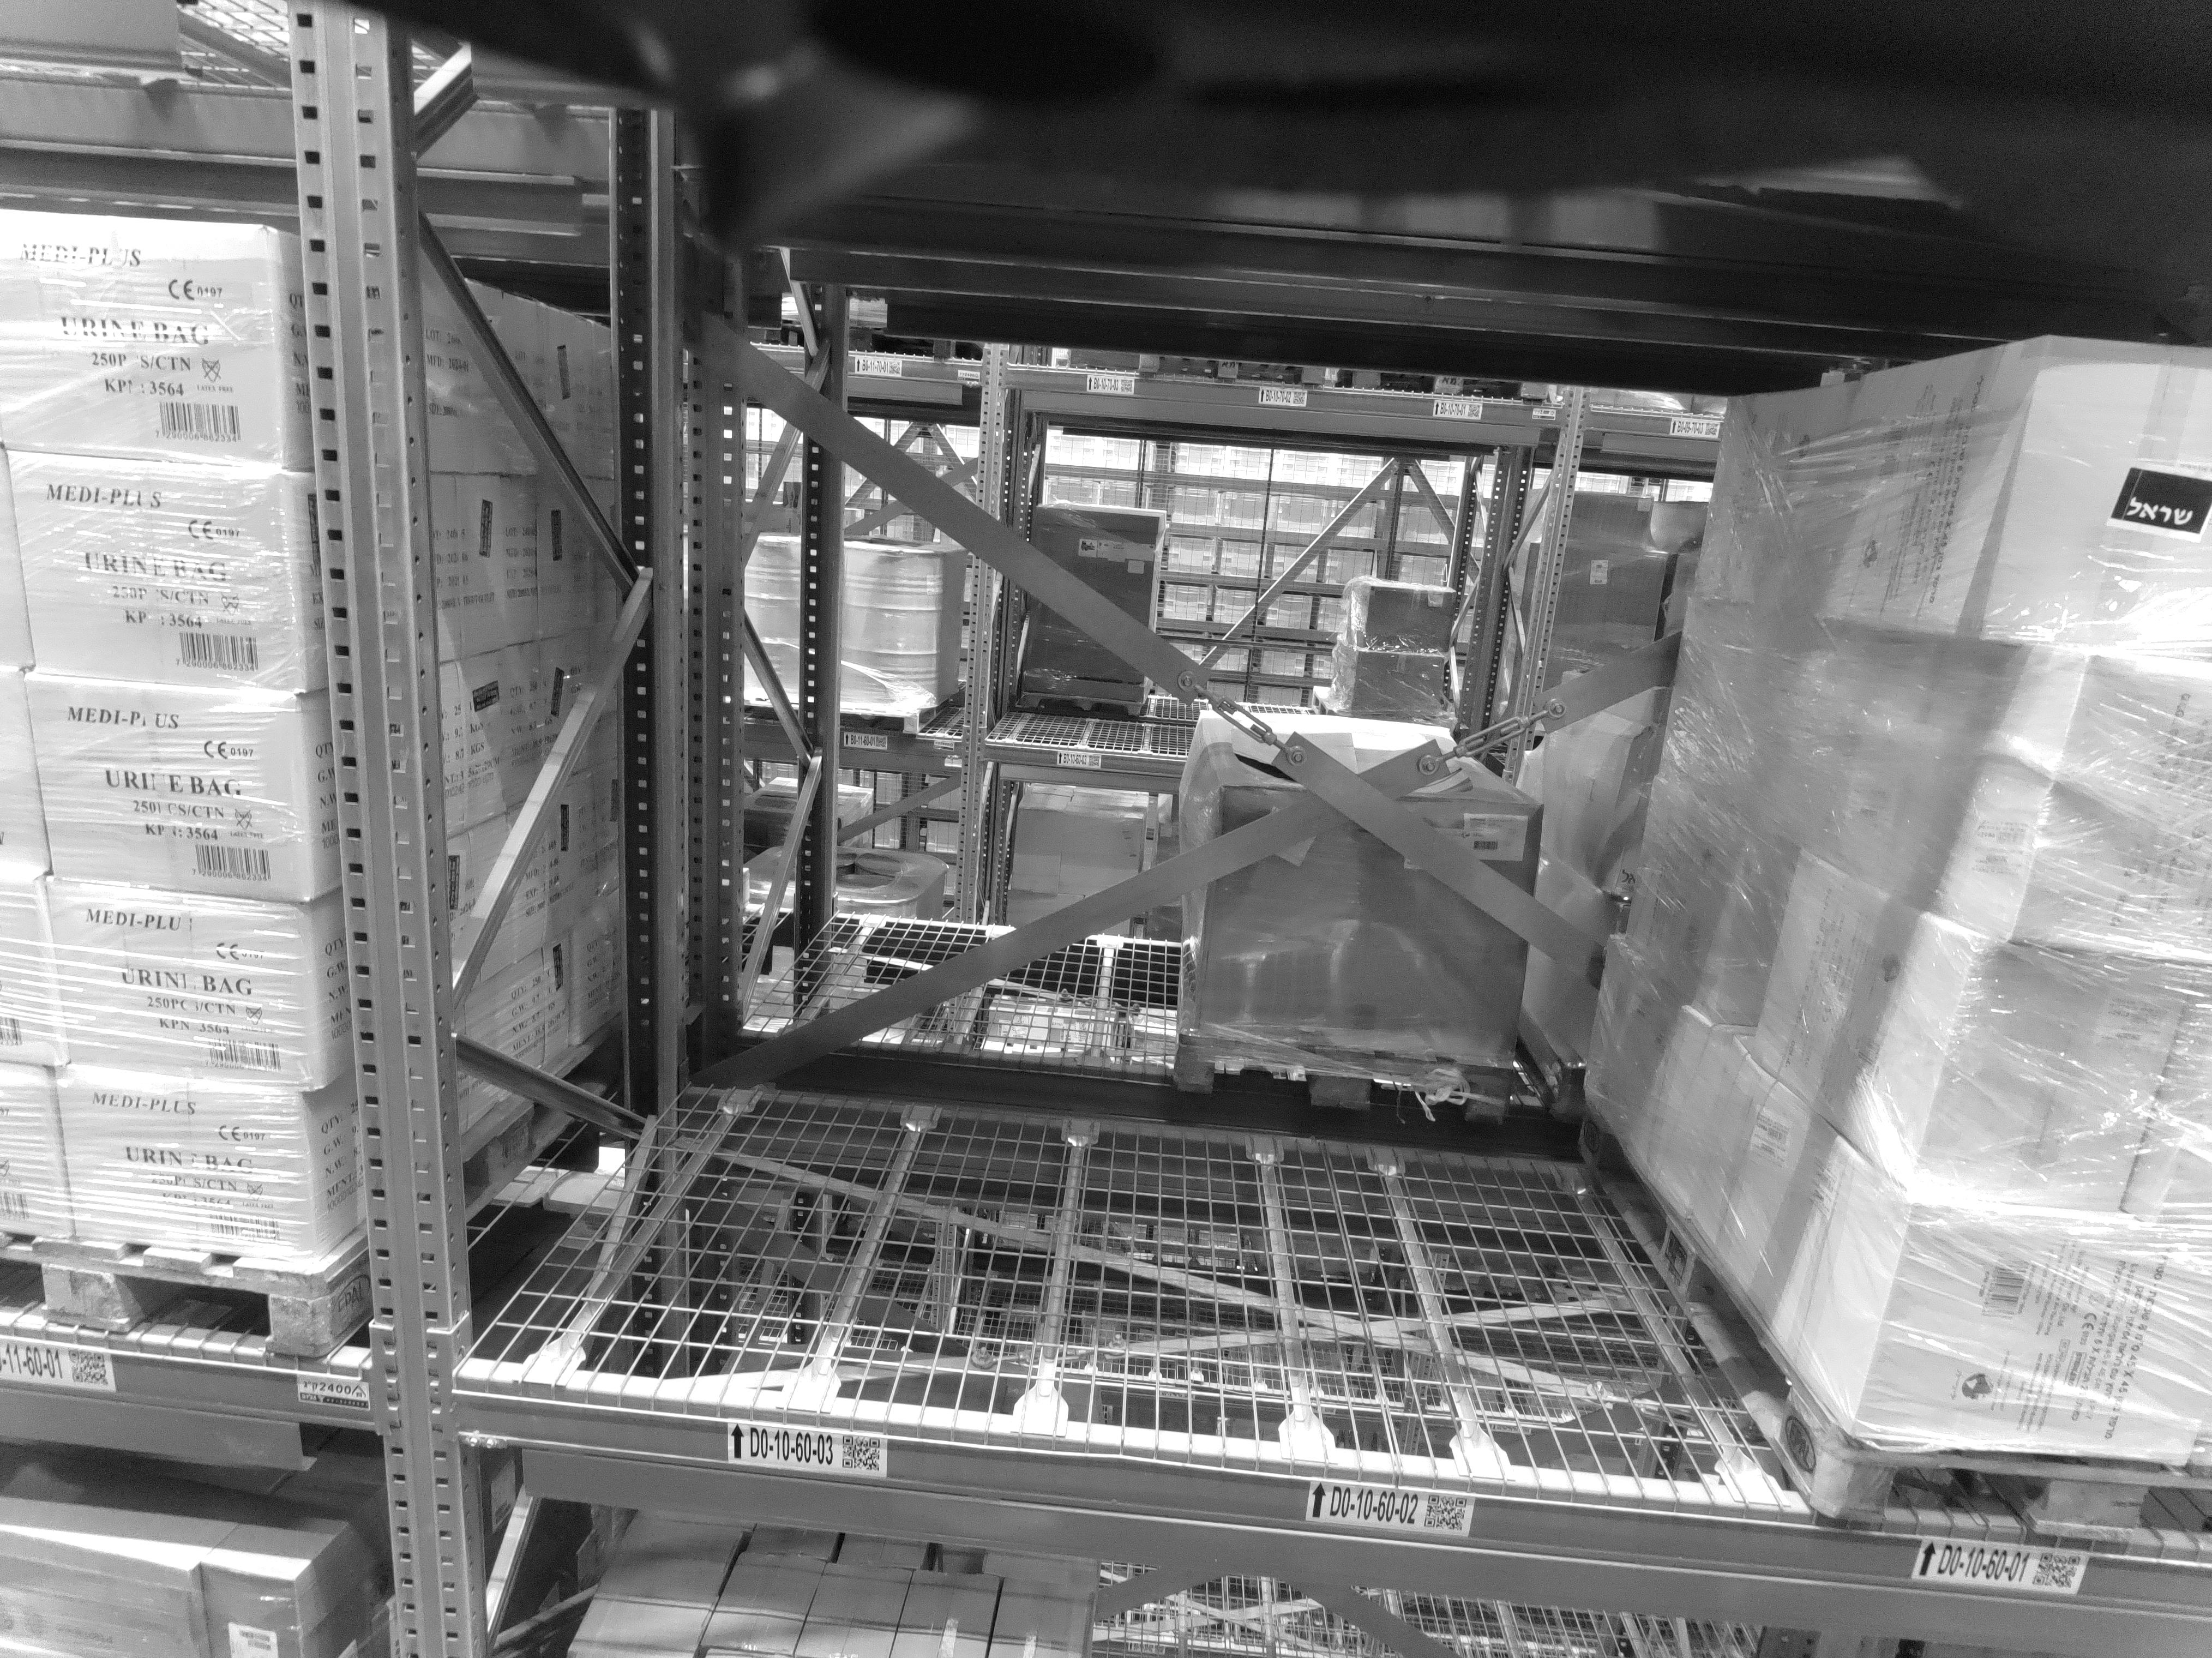empty-shelf: (1205, 235, 1623, 1412), (655, 247, 1057, 1334)
